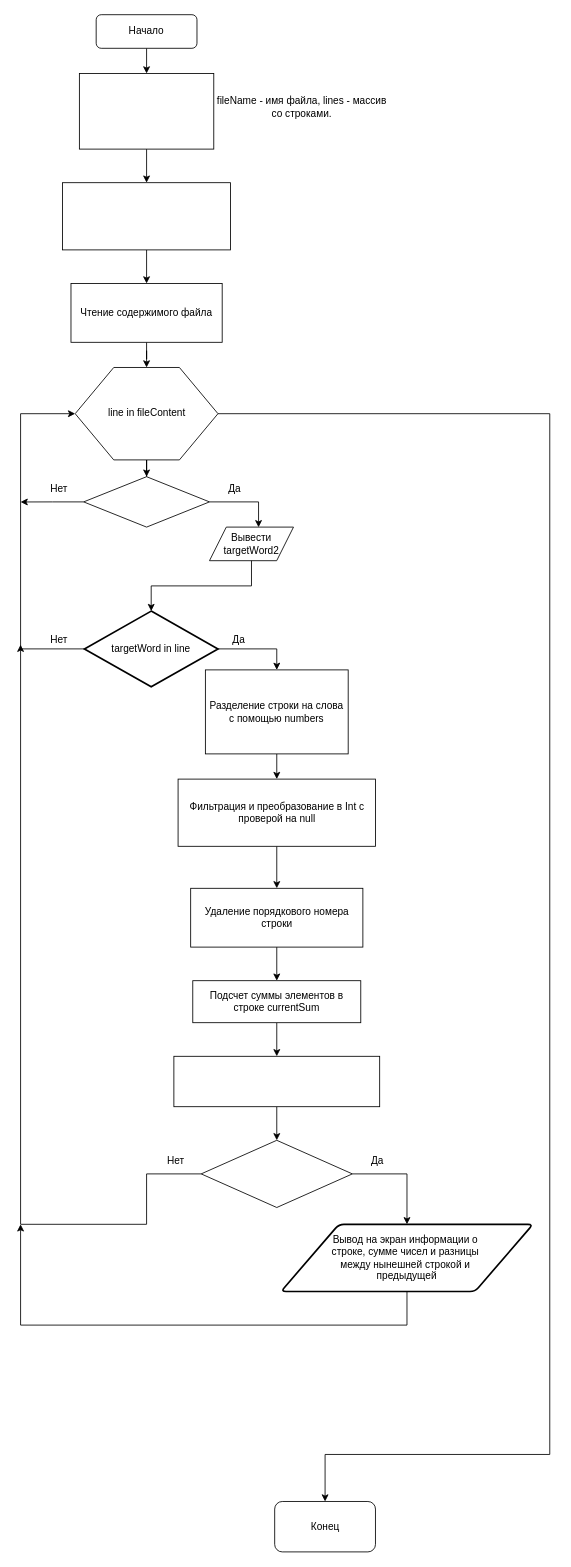
Some shapes in this 571 by 1567 pixel diagram are drawn without their labels. Here are the shapes that lost their labels. From the top down, the centre of each, then its label:
At (x=146, y=111): "Создание переменной fileName и lines".
At (x=146, y=216): "Создание переменных targetWord, fileContent, previsousSum = 0L".
At (x=146, y=501): "targetWord2 in line".
At (x=276, y=1081): "Вычисление разницы между строками difference".
At (x=276, y=1173): "difference > 30".
